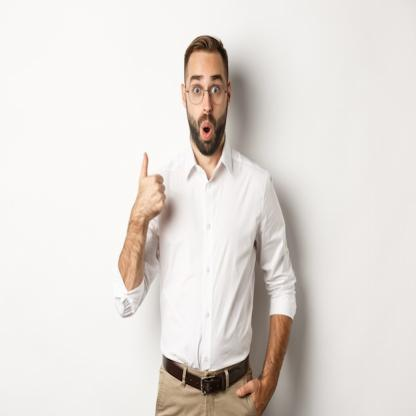thumb_up: (134, 150, 167, 222)
